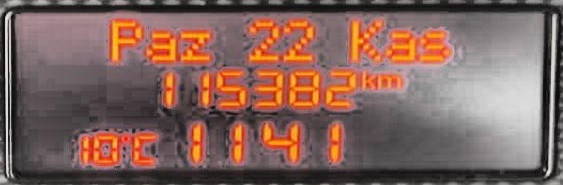0: (92, 132, 119, 164)
1: (325, 122, 341, 163), (187, 121, 202, 164), (229, 121, 244, 164), (161, 70, 176, 109), (198, 70, 212, 108), (80, 134, 90, 165)
2: (279, 18, 315, 63), (246, 18, 279, 63), (323, 68, 356, 108)
3: (251, 69, 284, 108)
4: (259, 121, 299, 162)
5: (213, 68, 246, 108)
8: (287, 68, 320, 107)
X: (347, 17, 383, 63), (106, 18, 141, 63), (176, 29, 212, 63), (144, 29, 177, 63), (417, 29, 450, 63), (383, 30, 416, 63), (129, 133, 158, 165), (377, 73, 400, 90), (359, 68, 377, 89)
